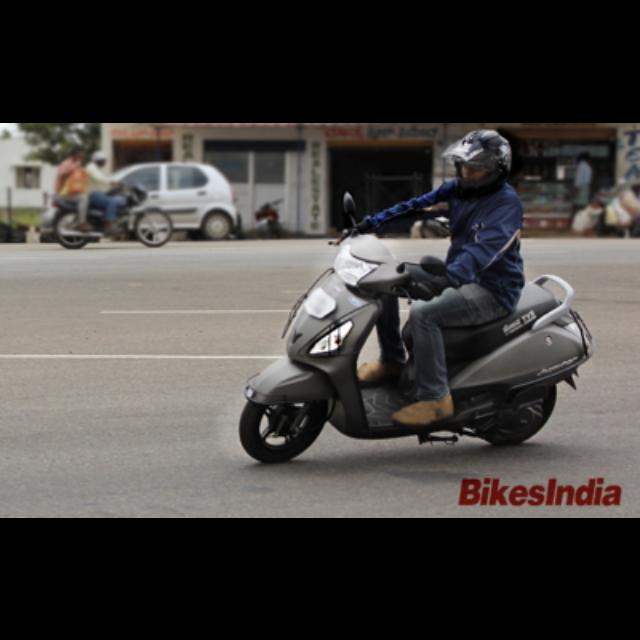With Helmet: (441, 126, 515, 200)
